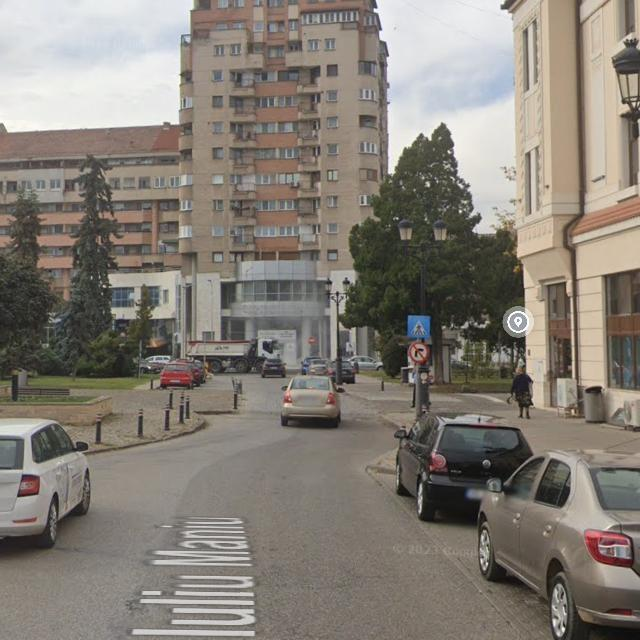info_crosswalk: (407, 315, 431, 339)
